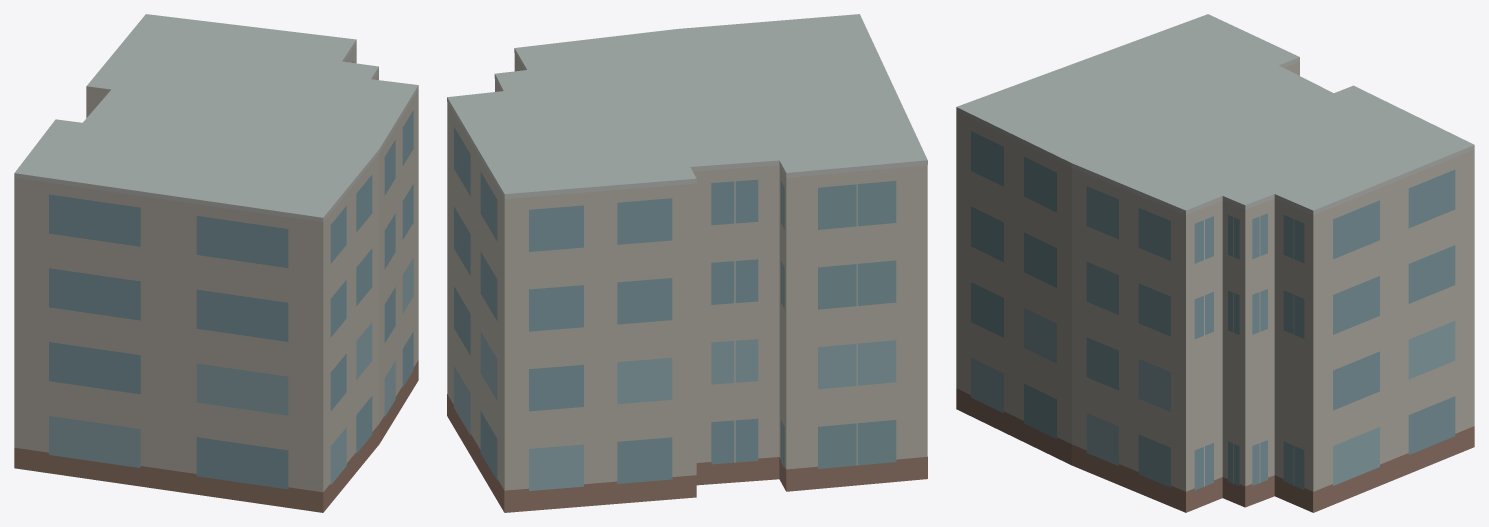
Rendered from survey-upis-32772410.glb.
The picture shows the model from 3 angles, left to right: view 1: azimuth 30°, elevation 25°; view 2: azimuth 150°, elevation 25°; view 3: azimuth 270°, elevation 25°; orthographic projection. The views are drawn at different scales.
Visible parts, largest first — view 1: survey-upis-32772410.tmp; view 2: survey-upis-32772410.tmp; view 3: survey-upis-32772410.tmp.
Boxes of the visible parts, box(x1,y1,x2,y2) form: survey-upis-32772410.tmp: box(14, 14, 418, 512); survey-upis-32772410.tmp: box(447, 14, 927, 512); survey-upis-32772410.tmp: box(956, 14, 1474, 512).
Bounding box in the file's own units: 22.48 × 16.1 × 25.04.
